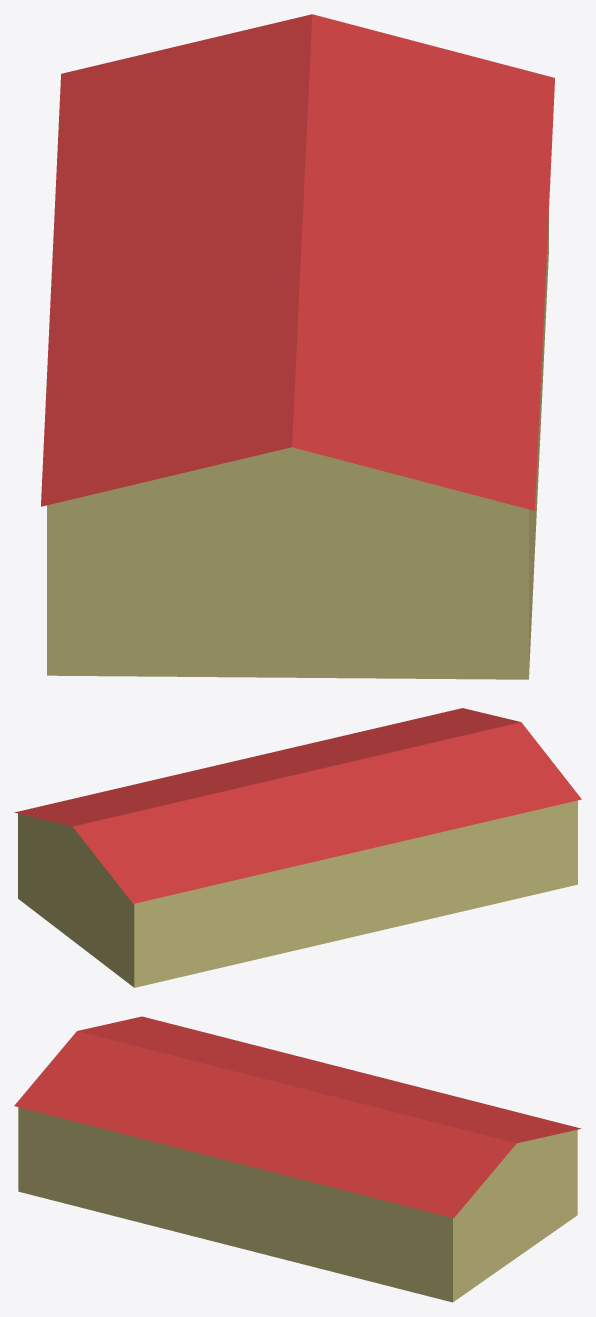
3 renders of one model, top to bottom at view 1: azimuth 30°, elevation 25°; view 2: azimuth 150°, elevation 25°; view 3: azimuth 270°, elevation 25°, orthographic. The views are drawn at different scales.
Bounding box in the file's own units: 39.47 × 46.92 × 10.65.
